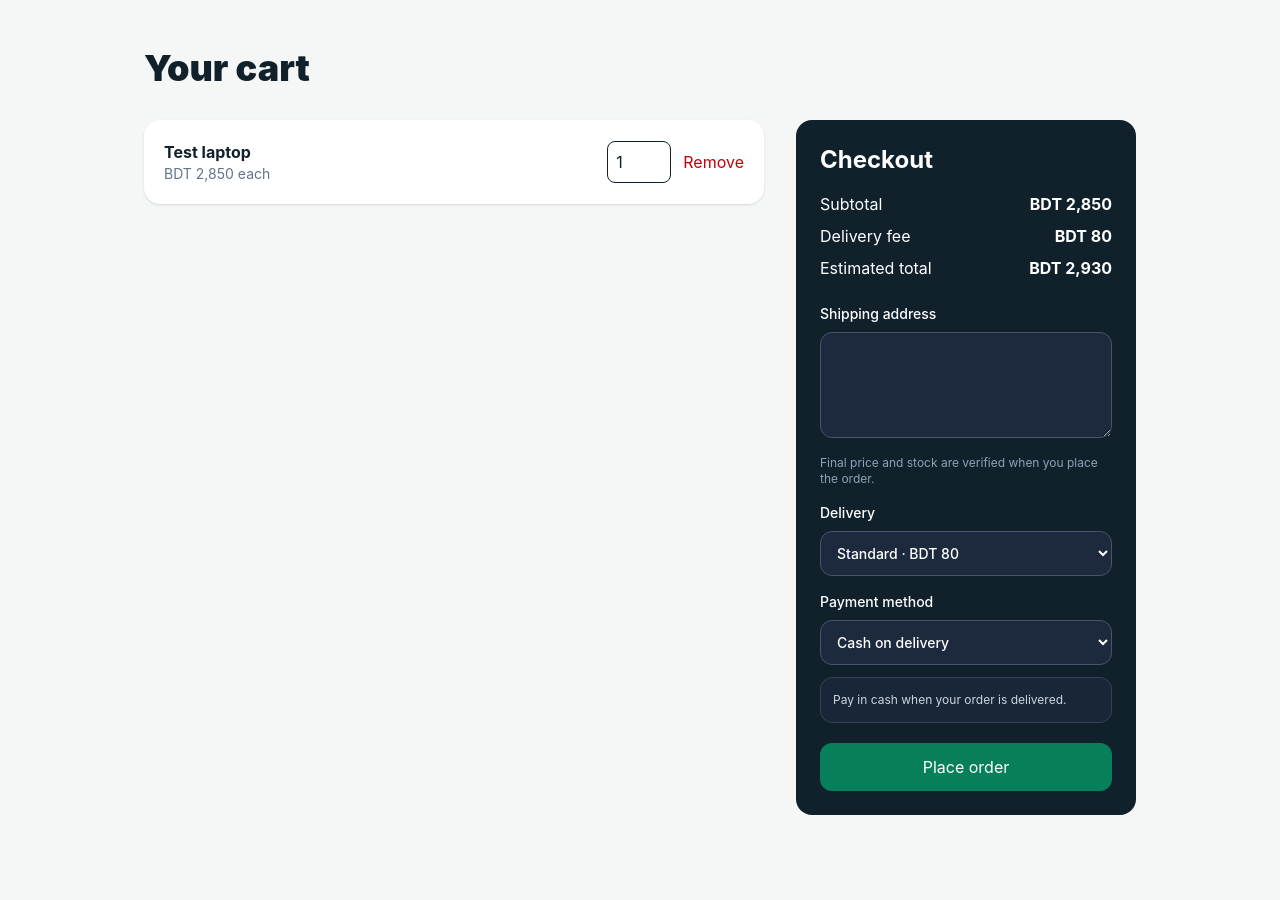
Scenario: Admin workflows › includes the selected delivery fee in the checkout estimate
expect the text "BDT 2,930" is shown: met, box [1029,256,1112,280]
Select "Express · BDT 180" in the dropdown labelled "Delivery": x=966, y=554 [820,531,1112,576]
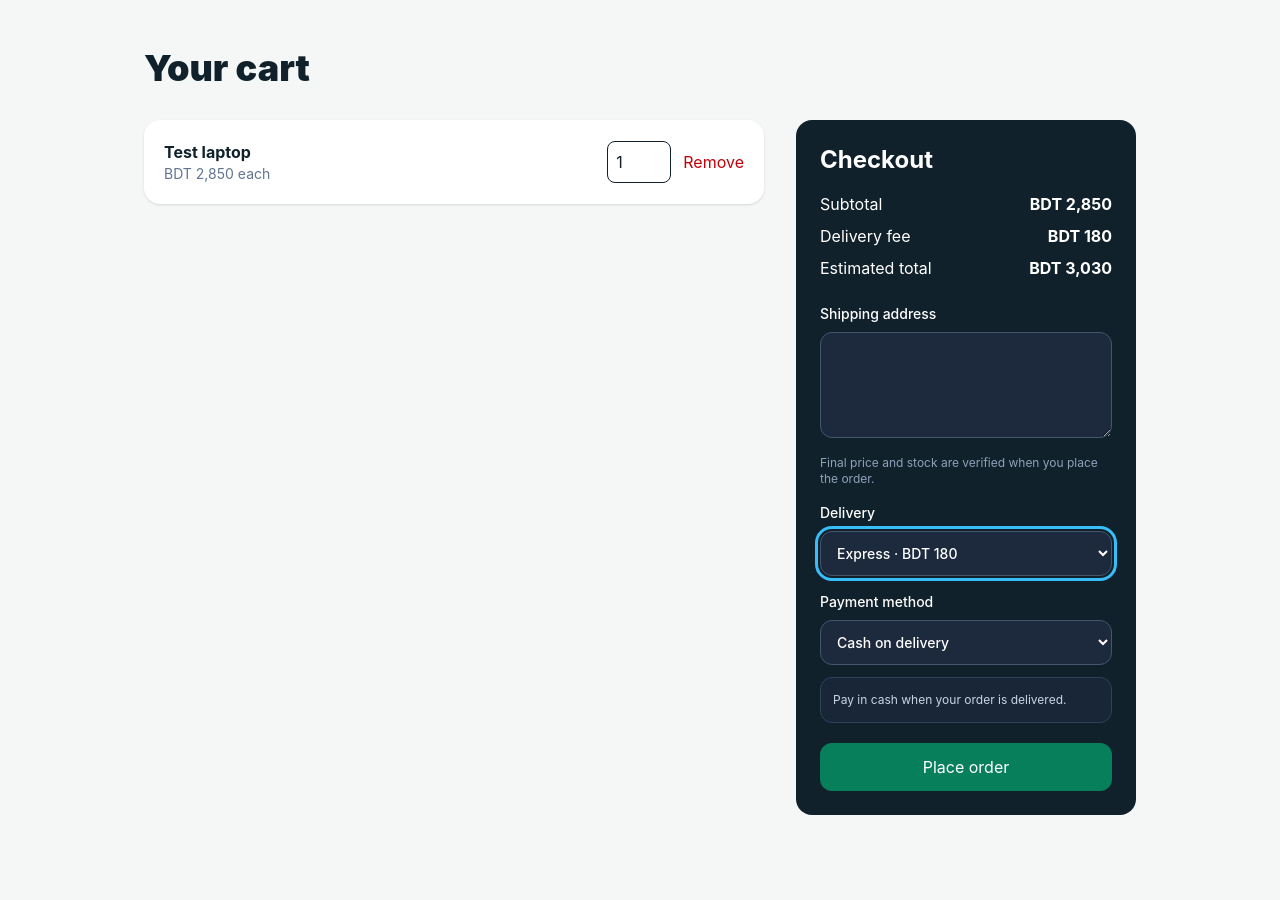
expect the text "BDT 3,030" is shown: met, box [1029,256,1112,280]
Select "Store pickup · Free" in the dropdown labelled "Delivery": x=966, y=554 [820,531,1112,576]
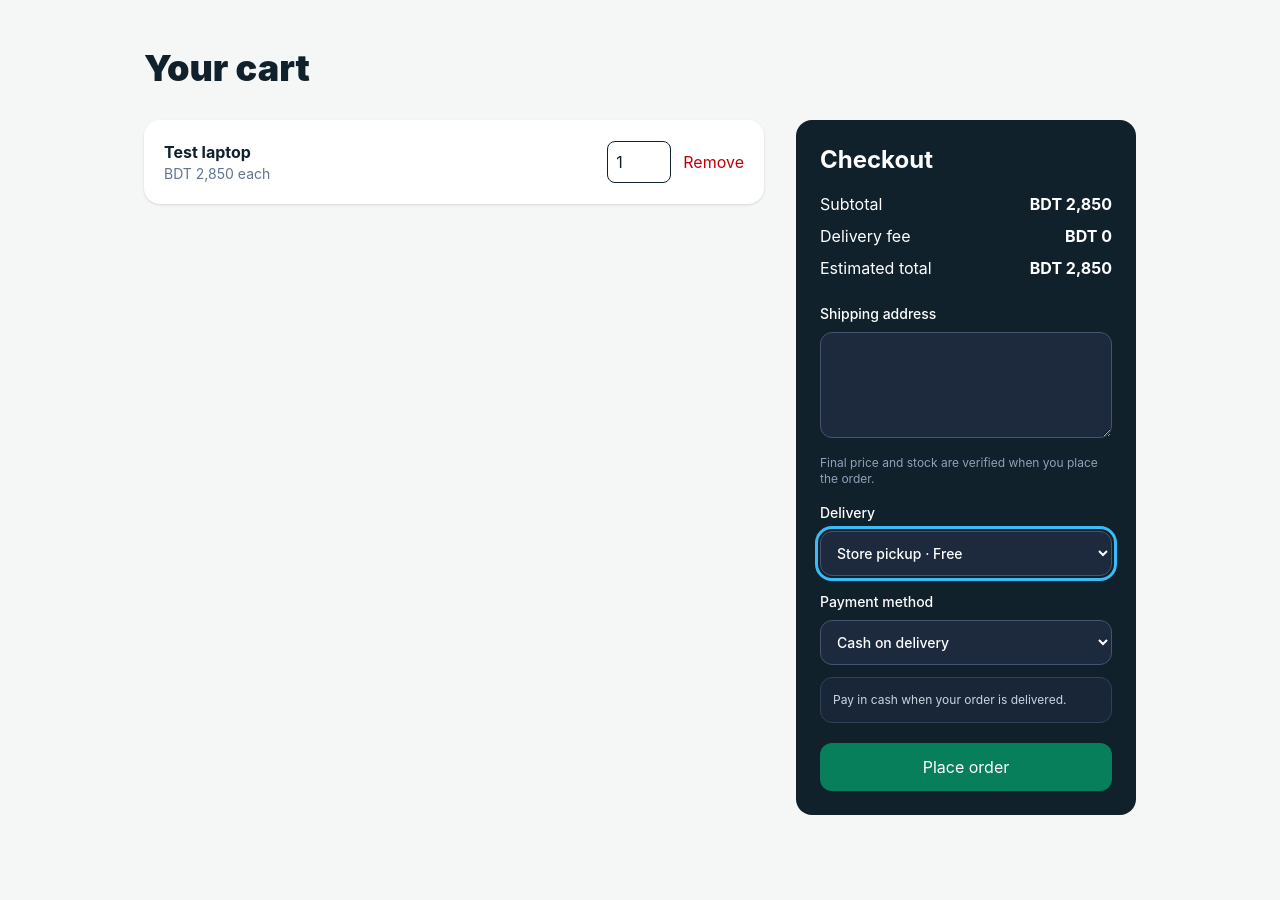
expect the text "BDT 2,850 each" is shown: met, box [164,164,270,184]
expect the text "3,030" is gone: met
